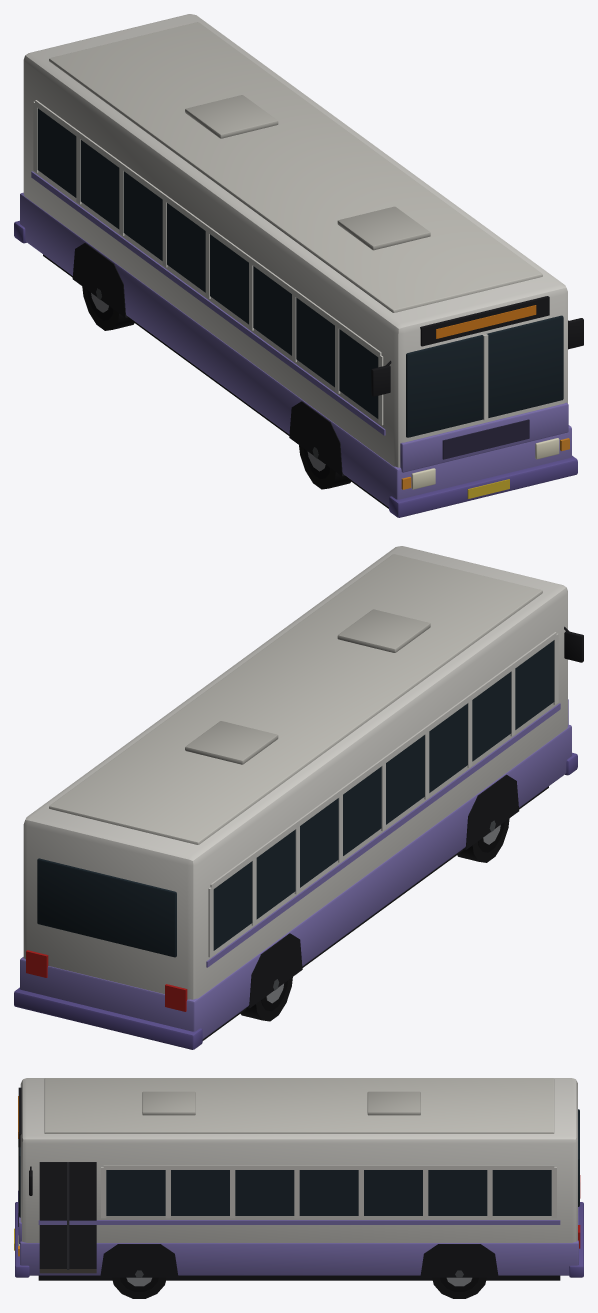
Rendered from bus.glb.
The picture shows the model from 3 angles, top to bottom: view 1: azimuth 30°, elevation 25°; view 2: azimuth 150°, elevation 25°; view 3: azimuth 270°, elevation 25°; orthographic projection. The views are drawn at different scales.
Parts seen in each view (by area): view 1: body, glass; view 2: body, glass; view 3: body, glass.
Part boxes in pixels (x1,y1,x2,y2): body: (14, 14, 583, 517); glass: (37, 108, 563, 437); body: (14, 546, 583, 1049); glass: (37, 640, 554, 957); body: (14, 1078, 583, 1298); glass: (19, 1109, 579, 1217).
Bounding box in the file's own units: 3.04 × 3.09 × 9.61.
